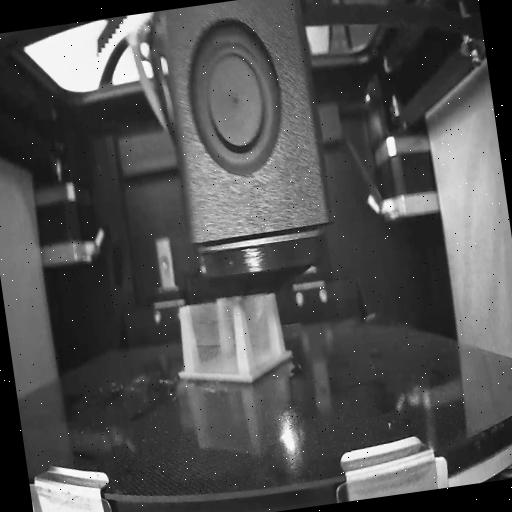stringing: (183, 297, 242, 387), (241, 288, 284, 376)
